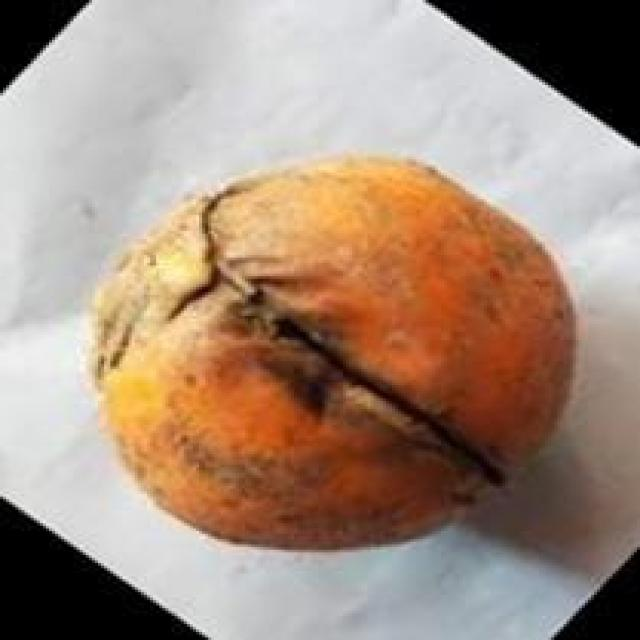damaged: (83, 154, 579, 552)
